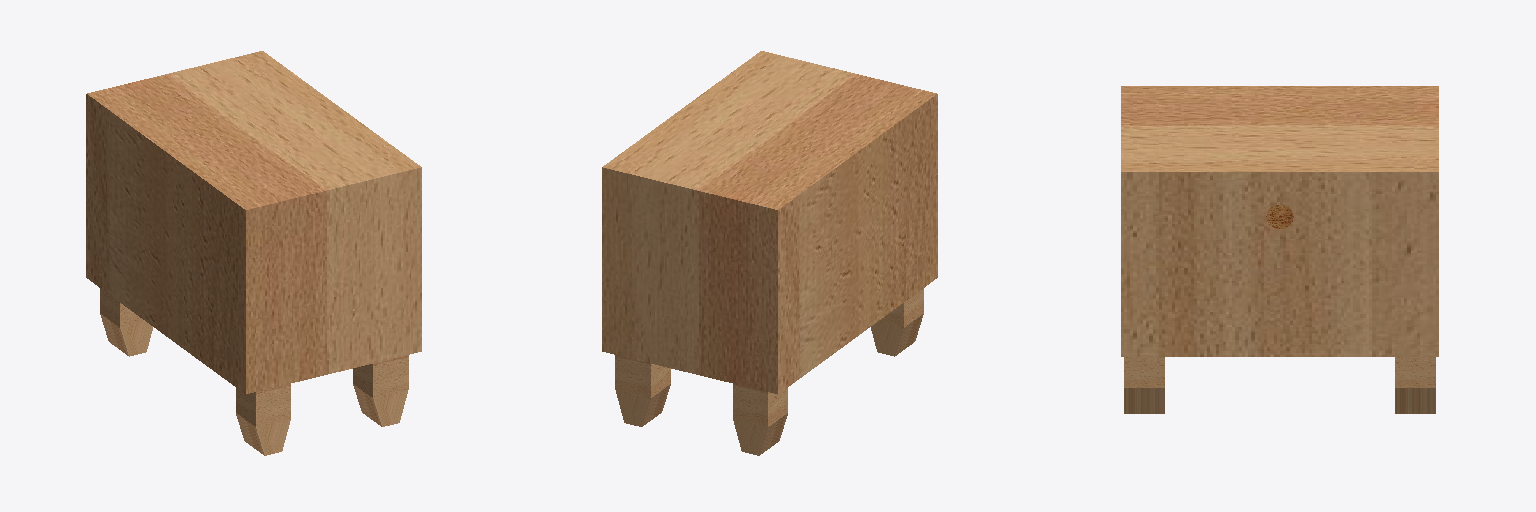
3 renders of one model, left to right at view 1: azimuth 30°, elevation 25°; view 2: azimuth 150°, elevation 25°; view 3: azimuth 270°, elevation 25°, orthographic.
Visible parts, largest first — view 1: polySurface17; view 2: polySurface17; view 3: polySurface17.
Part boxes in pixels (left/top/right/bottom): polySurface17: left=86, top=51, right=421, bottom=455; polySurface17: left=602, top=51, right=937, bottom=455; polySurface17: left=1121, top=86, right=1438, bottom=413.
Bounding box in the file's own units: 153 × 205 × 235.
2 materials, 2 textured.